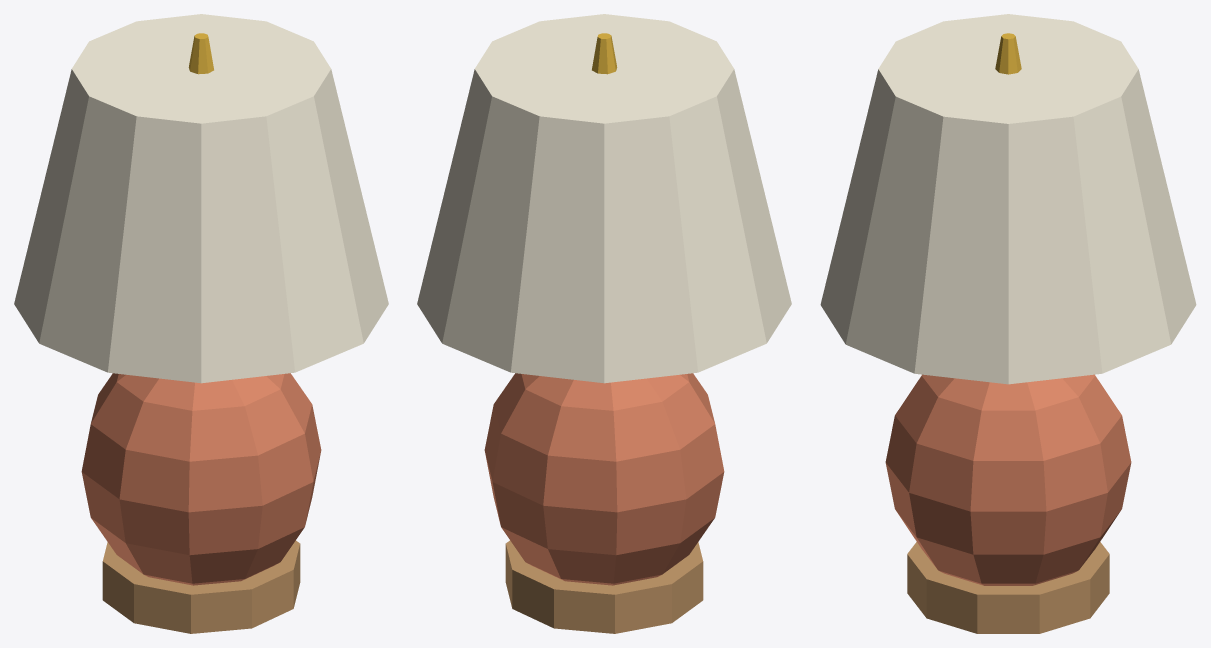
Rendered from Furniture_BedsideLamp.glb.
3 views of the same model, side by side, from view 1: azimuth 30°, elevation 25°; view 2: azimuth 150°, elevation 25°; view 3: azimuth 270°, elevation 25° (orthographic).
Parts seen in each view (by area): view 1: Furniture_BedsideLamp; view 2: Furniture_BedsideLamp; view 3: Furniture_BedsideLamp.
Boxes of the visible parts, x1=… form: Furniture_BedsideLamp: x1=14, y1=14, x2=388, y2=633; Furniture_BedsideLamp: x1=417, y1=14, x2=791, y2=633; Furniture_BedsideLamp: x1=820, y1=14, x2=1196, y2=633.
Bounding box in the file's own units: 0.26 × 0.425 × 0.26.
